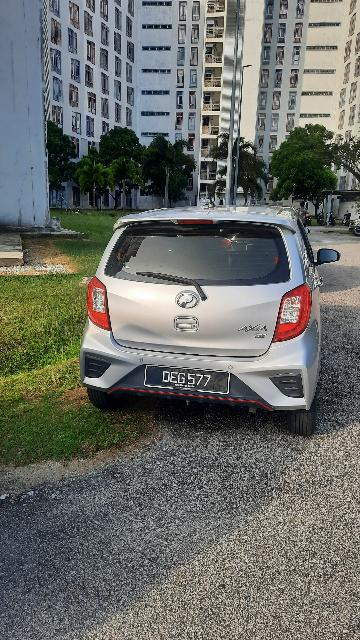License_Plate: (136, 360, 236, 400)
car: (76, 197, 345, 437)
